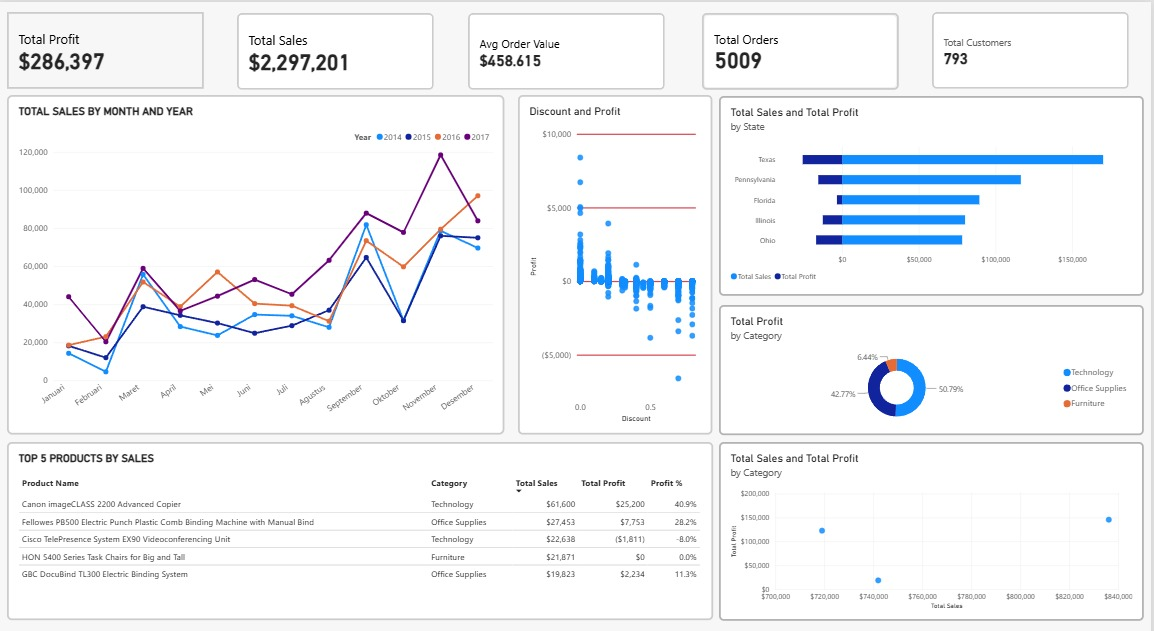

The page's visual inventory and layout, read from the dashboard file:
{"tool":"powerbi","page":{"name":"Page 1","canvas":[1920,1080],"ordinal":0},"visuals":[{"type":"cardVisual","fields":{"Data":["Sum(superstore_cleaned.Profit)"]},"box":[12.5,16.2,288.8,127.5],"z":0},{"type":"cardVisual","fields":{"Data":["Sum(superstore_cleaned.Sales)"]},"box":[338.8,16.2,288,127.5],"z":1},{"type":"lineChart","title":"TOTAL SALES BY MONTH AND YEAR","fields":{"Category":["superstore_cleaned.Nama Bulan"],"Series":["superstore_cleaned.Year"],"Y":["superstore_cleaned.Total Sales"]},"box":[12.9,155.7,828.6,565.7],"z":2},{"type":"cardVisual","fields":{"Data":["superstore_cleaned.Total Orders"]},"box":[988.8,16.2,288,127.5],"z":4},{"type":"cardVisual","fields":{"Data":["superstore_cleaned.Avg Order Value"]},"box":[672.5,16.2,288,127.5],"z":5},{"type":"barChart","fields":{"Category":["superstore_cleaned.State"],"Y":["superstore_cleaned.Total Sales","superstore_cleaned.Total Profit"]},"box":[1200,155.7,500,334.3],"z":6},{"type":"donutChart","fields":{"Category":["superstore_cleaned.Category"],"Y":["superstore_cleaned.Total Profit"]},"box":[1200,504.3,500,217.1],"z":7},{"type":"cardVisual","fields":{"Data":["superstore_cleaned.Total Customers"]},"box":[1312.5,16.2,288,127.5],"z":8},{"type":"scatterChart","fields":{"X":["superstore_cleaned.Discount"],"Y":["superstore_cleaned.Profit"]},"box":[865.7,155.7,324.3,565.7],"z":9},{"type":"tableEx","title":"TOP 5 PRODUCTS BY SALES","fields":{"Values":["superstore_cleaned.Product Name","superstore_cleaned.Category","superstore_cleaned.Total Sales","superstore_cleaned.Total Profit","superstore_cleaned.Profit %"]},"box":[41.4,735.7,1137.1,330],"z":10}]}

Visuals, with their boxes in screenshot pixels (x1, y1, x2, y2), scaled from the page's 1920x1080 canvas onto the 1154x631 screenshot:
cardVisual - Sum(superstore_cleaned.Profit): 8/9/181/84
cardVisual - Sum(superstore_cleaned.Sales): 204/9/377/84
"TOTAL SALES BY MONTH AND YEAR" lineChart: 8/91/506/421
cardVisual - superstore_cleaned.Total Orders: 594/9/767/84
cardVisual - superstore_cleaned.Avg Order Value: 404/9/577/84
barChart - superstore_cleaned.State x superstore_cleaned.Total Sales: 721/91/1022/286
donutChart - superstore_cleaned.Category x superstore_cleaned.Total Profit: 721/295/1022/421
cardVisual - superstore_cleaned.Total Customers: 789/9/962/84
scatterChart - superstore_cleaned.Discount x superstore_cleaned.Profit: 520/91/715/421
"TOP 5 PRODUCTS BY SALES" tableEx: 25/430/708/623
